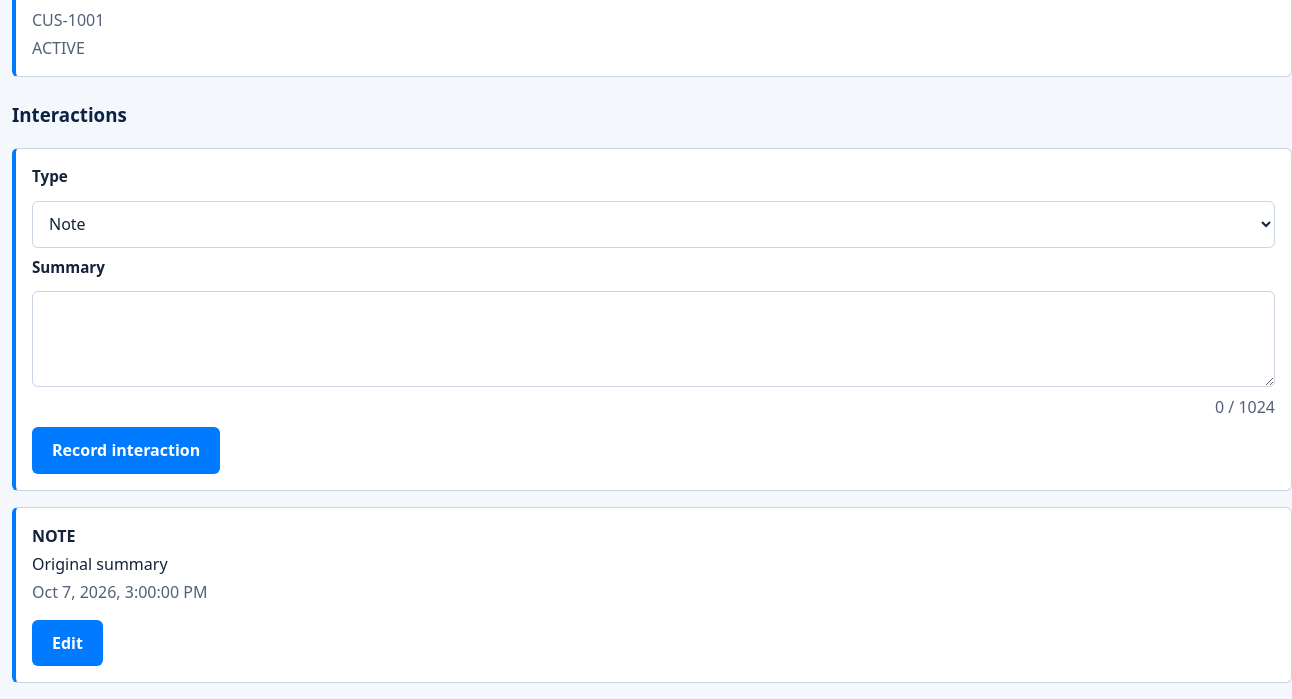
Scenario: CustomerProfilePageComponent › keeps edit values on conflict and reloads only when asked
The width and height of the screenshot is (1292, 699).
(page scrolled)
Click the button with test id "interaction-edit": click(67, 643) [32,620,103,666]
(page scrolled)
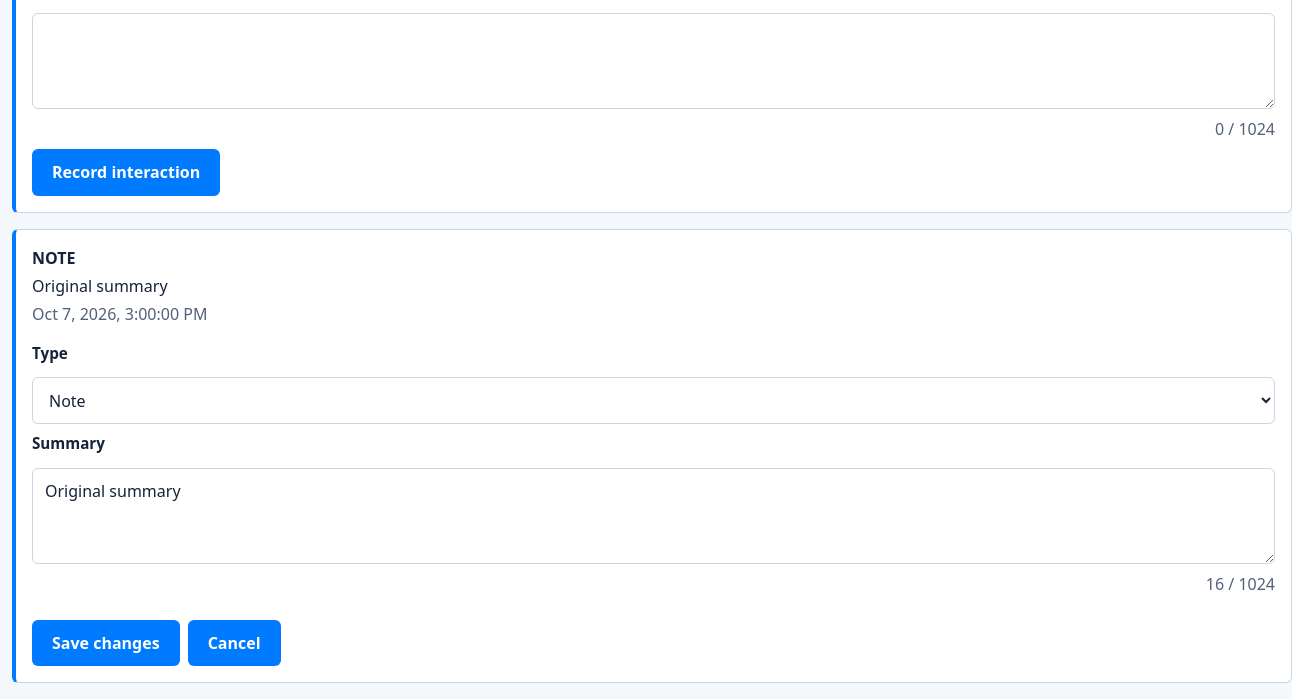
Replace the text in the text box labelled "Summary" below "Oct 7, 2026, 3:00:00 PM" with "My draft": (654, 516) [32,468,1275,564]
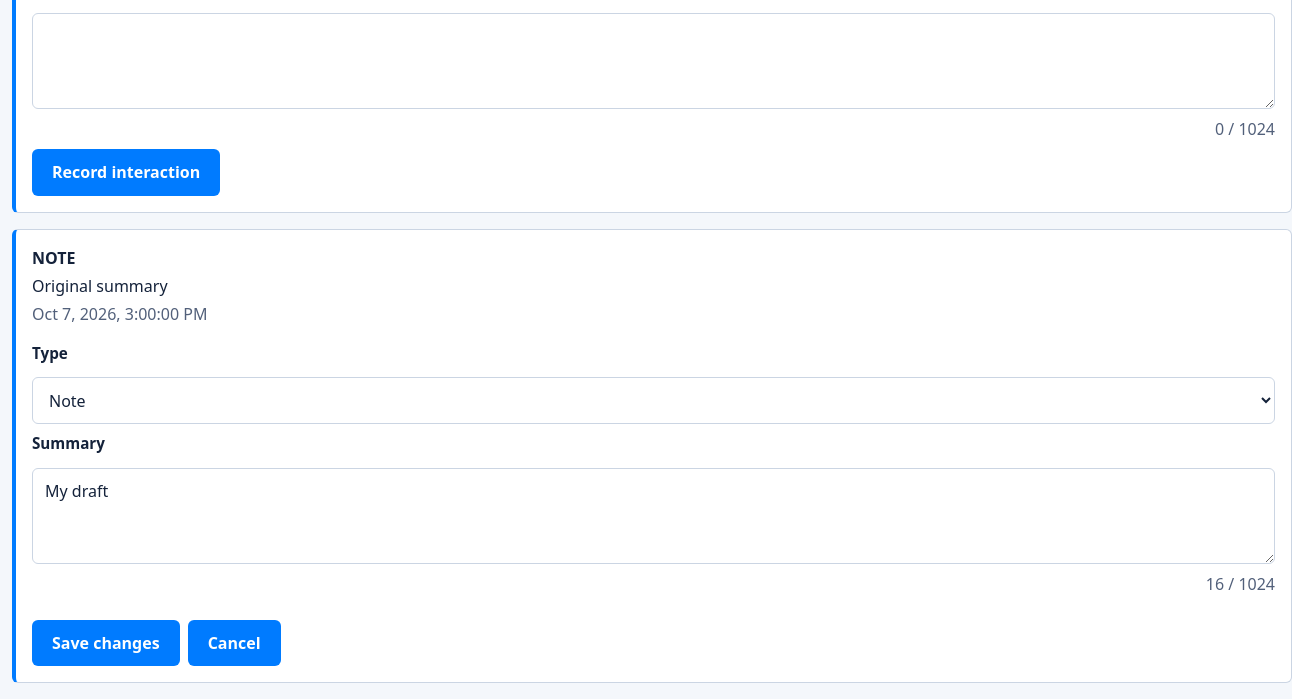
Select "Meeting" in the dropdown labelled "Type": (654, 400) [32,377,1275,424]
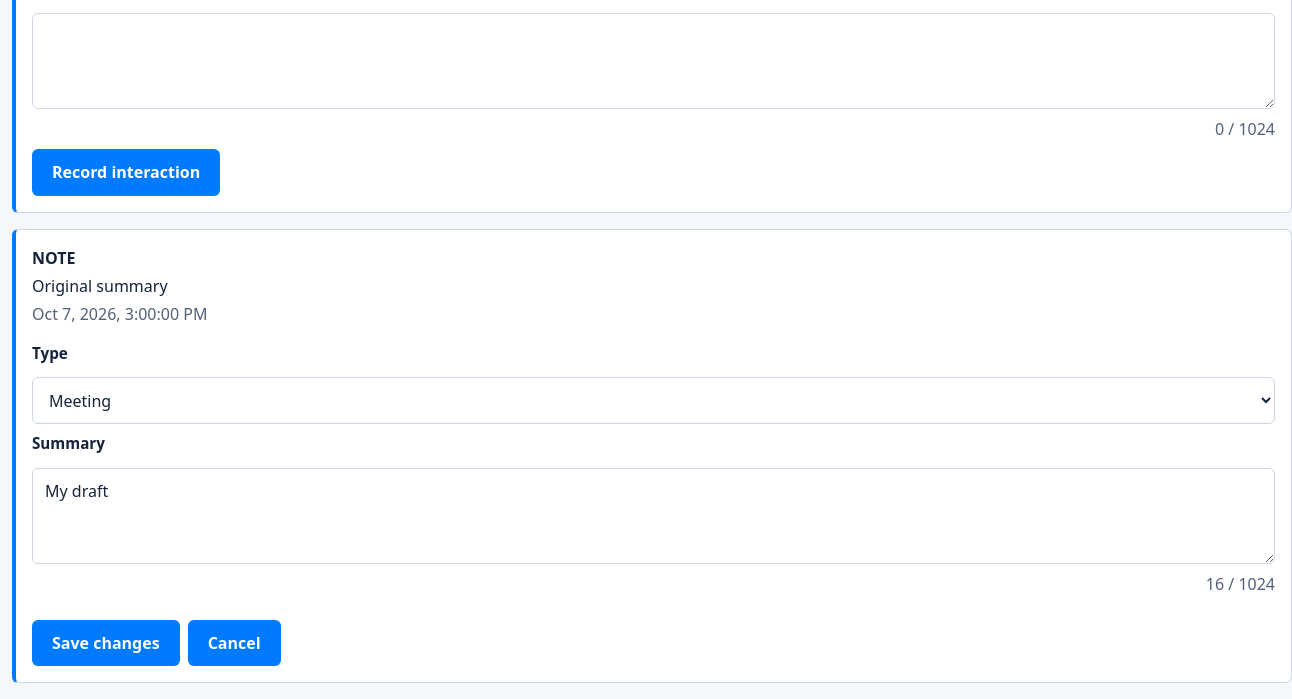
Submit the form with test id "interaction-edit-form", box [32,342,1275,666]
(page scrolled)
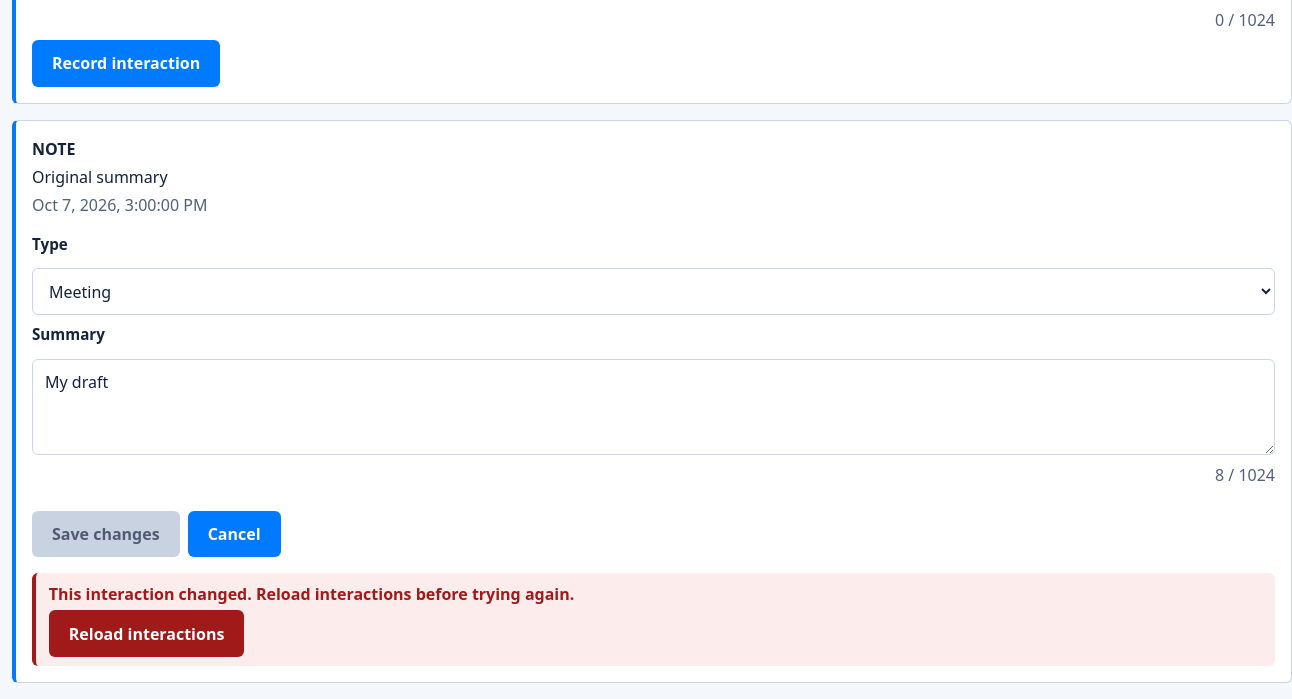
Now the message with test id "interaction-mutation-error" shows "changed", box [49,584,574,606]
Click the button "Reload interactions": click(147, 634) [49,610,244,657]
(page scrolled)
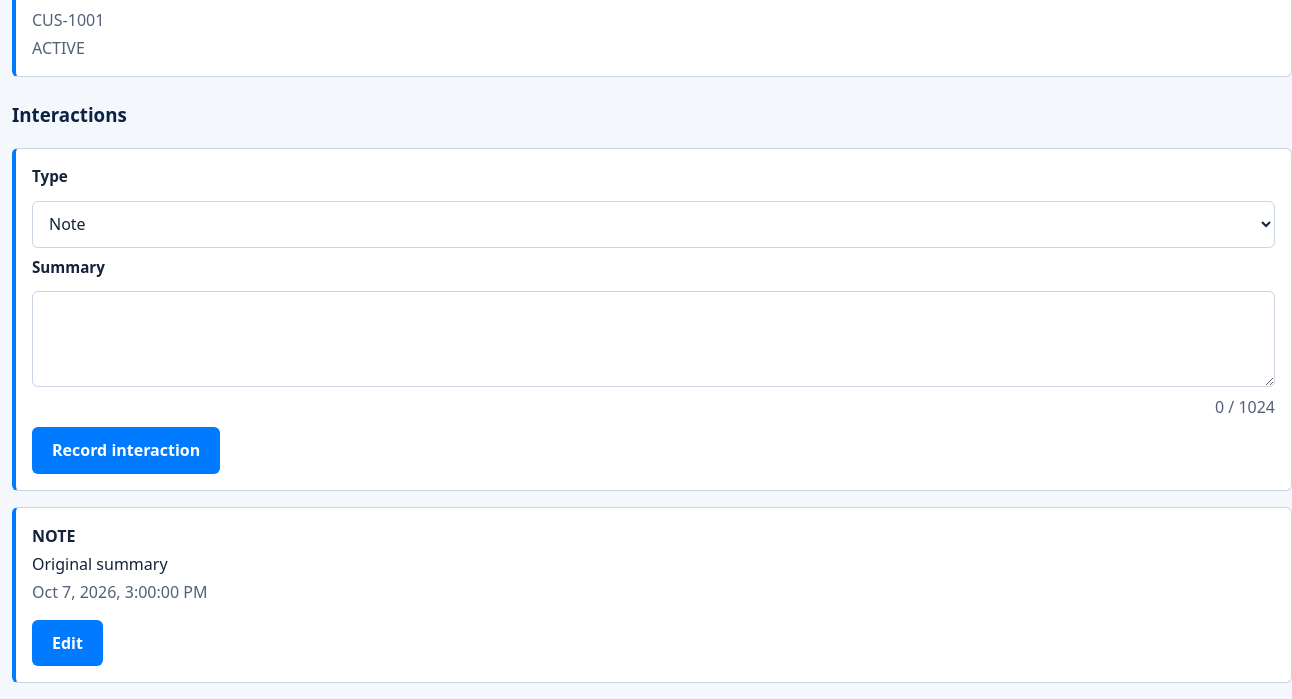
Now the message with test id "interaction-mutation-error" is gone
Now the button with test id "interaction-edit" is enabled, box [32,620,103,666]
